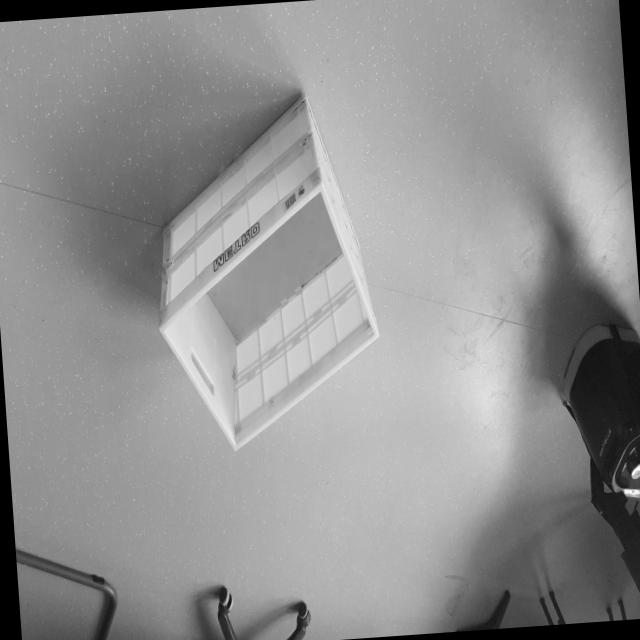box: (137, 74, 386, 462)
